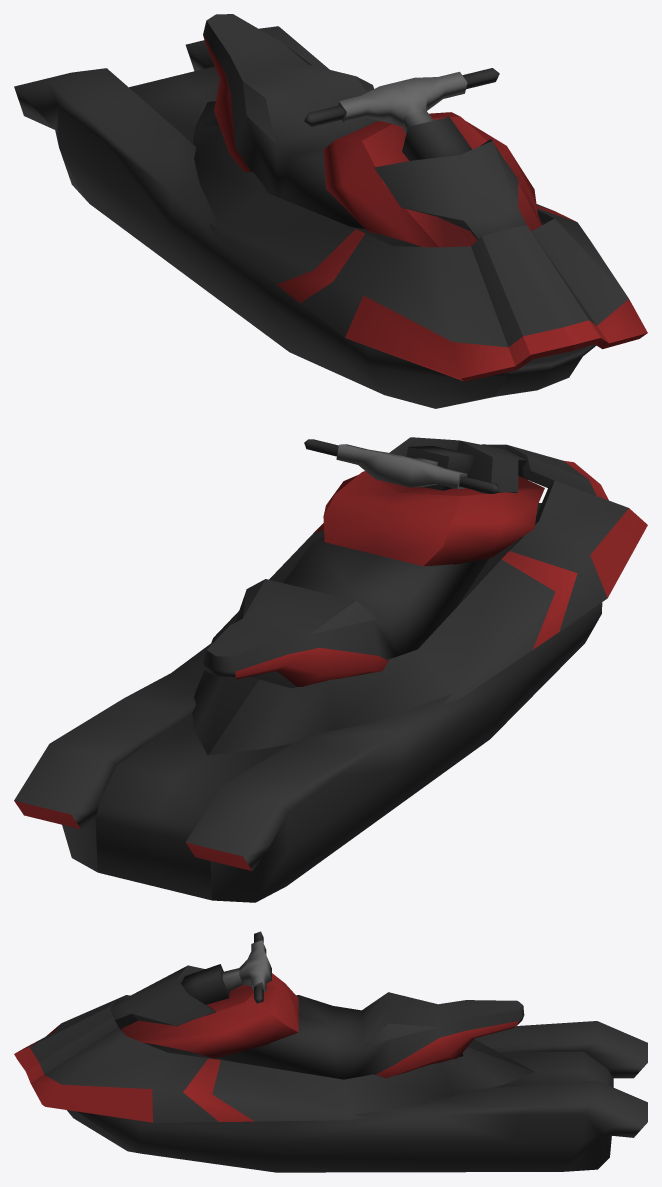
The model's file is vehicles-boats-jet-ski_v1.glb.
3 renders of one model, top to bottom at view 1: azimuth 30°, elevation 25°; view 2: azimuth 150°, elevation 25°; view 3: azimuth 270°, elevation 25°, orthographic. The views are drawn at different scales.
Visible parts, largest first — view 1: Jet Ski; view 2: Jet Ski; view 3: Jet Ski.
Part boxes in pixels (x1,y1,x2,y2): Jet Ski: (14, 14, 647, 408); Jet Ski: (14, 437, 647, 902); Jet Ski: (14, 931, 647, 1172).
Bounding box in the file's own units: 1.09 × 1.06 × 3.2.
